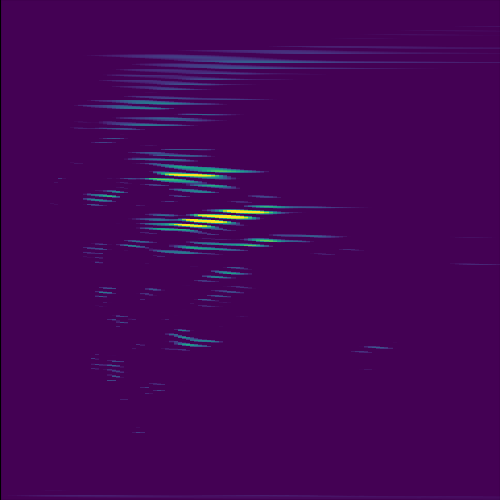semblance: (136, 203, 295, 234), (132, 164, 259, 189)
